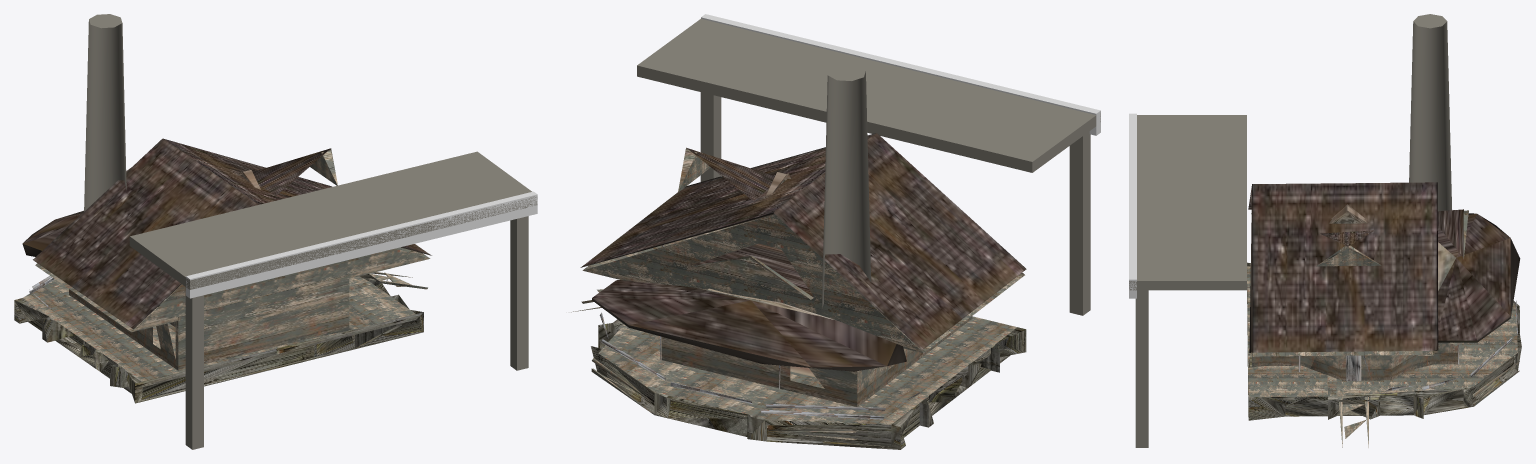
3 renders of one model, left to right at view 1: azimuth 30°, elevation 25°; view 2: azimuth 150°, elevation 25°; view 3: azimuth 270°, elevation 25°, orthographic. The views are drawn at different scales.
Parts seen in each view (by area): view 1: dweller_building_workshop; view 2: dweller_building_workshop; view 3: dweller_building_workshop.
Part boxes in pixels (bbox=[...]): dweller_building_workshop: bbox=[14, 14, 537, 449]; dweller_building_workshop: bbox=[571, 14, 1100, 449]; dweller_building_workshop: bbox=[1129, 14, 1521, 447].
Size of the model in its own units: 3 by 2.5 by 3.
6 materials, 4 textured.
